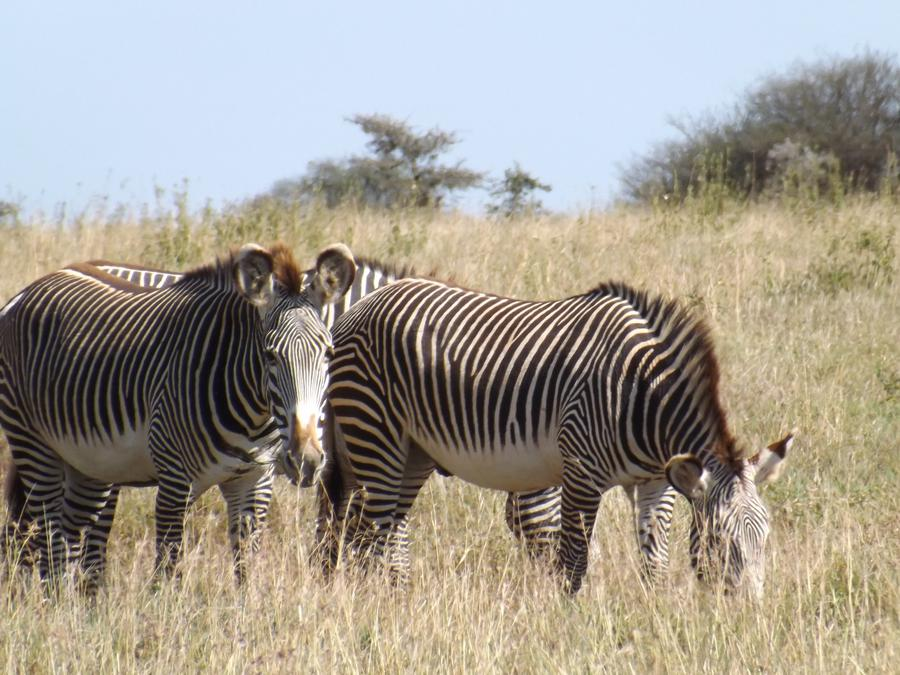zebra_grevys: (358, 256, 635, 495)
